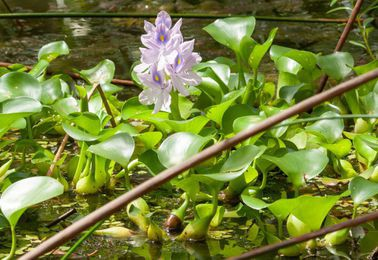water_hyacinth: (0, 9, 378, 234)
